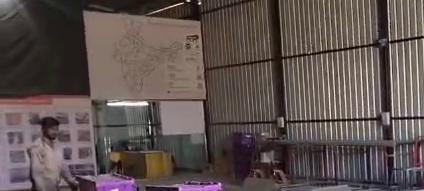box: (77, 174, 134, 190), (146, 182, 220, 190)
